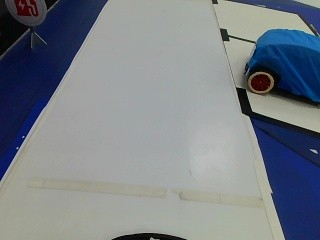battery: (2, 0, 51, 25)
car: (239, 25, 320, 102)
